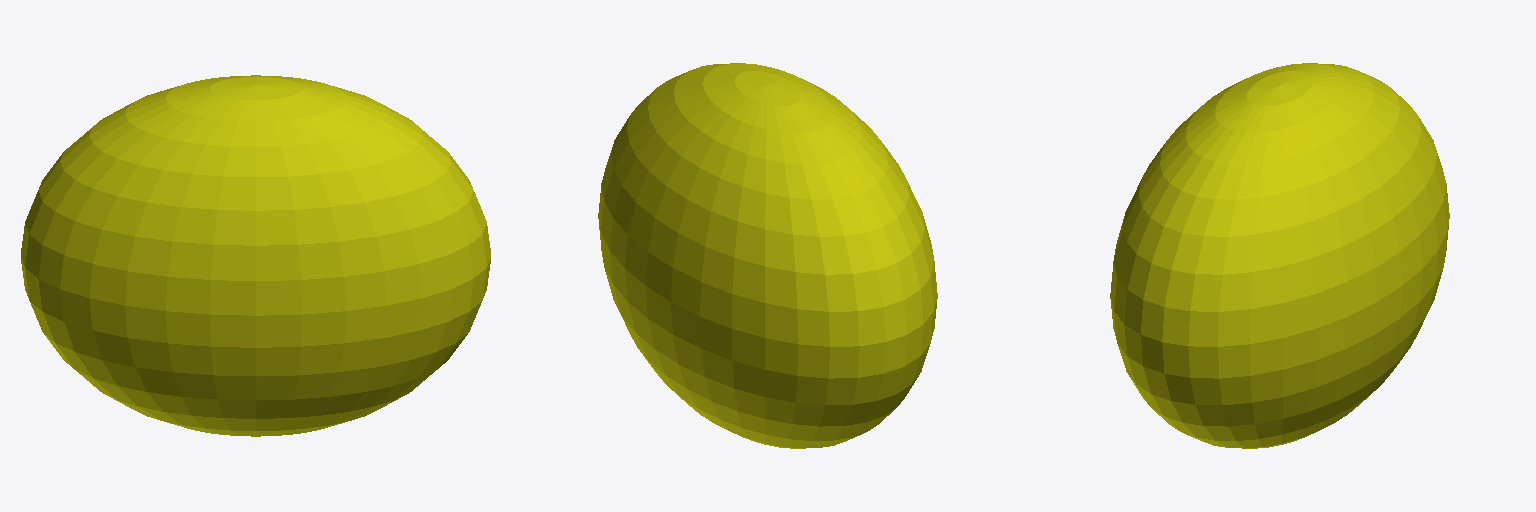
Rendered from moya_TV_y.obj.
3 views of the same model, side by side, from view 1: azimuth 30°, elevation 25°; view 2: azimuth 150°, elevation 25°; view 3: azimuth 270°, elevation 25° (orthographic).
Parts seen in each view (by area): view 1: Sphere_Sphere.002; view 2: Sphere_Sphere.002; view 3: Sphere_Sphere.002.
Boxes of the visible parts, box(x1,y1,x2,y2) form: Sphere_Sphere.002: box(21, 75, 490, 436); Sphere_Sphere.002: box(598, 63, 937, 448); Sphere_Sphere.002: box(1110, 63, 1449, 448).
Size of the model in its own units: 0.9149 by 0.8 by 0.721.